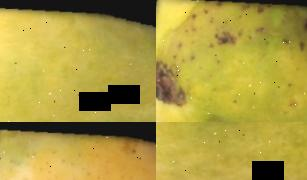PartiallyRipe: (0, 0, 156, 122), (156, 0, 307, 122), (156, 122, 307, 180)
Ripe: (0, 122, 156, 180)
